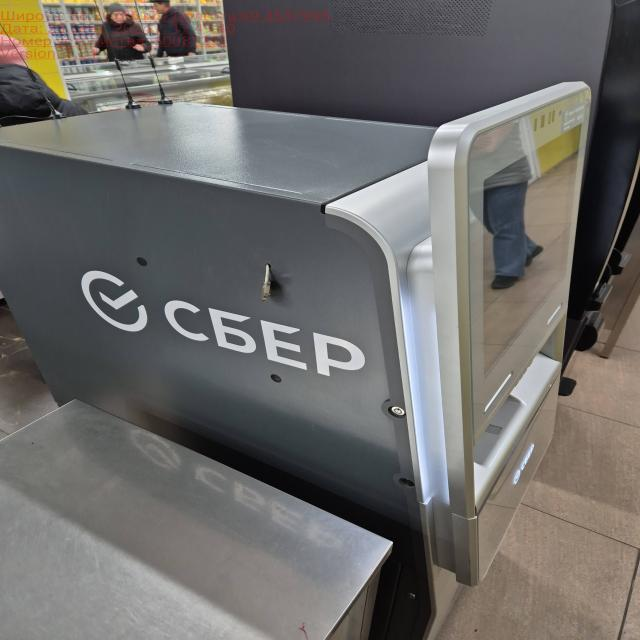bank: (0, 83, 589, 640)
